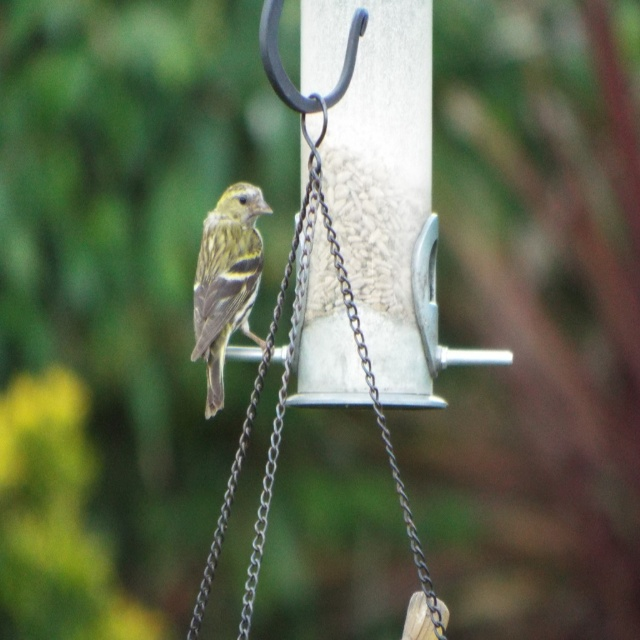Sparrow: (189, 181, 275, 420)
